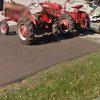Tractor: (2, 0, 88, 46)
